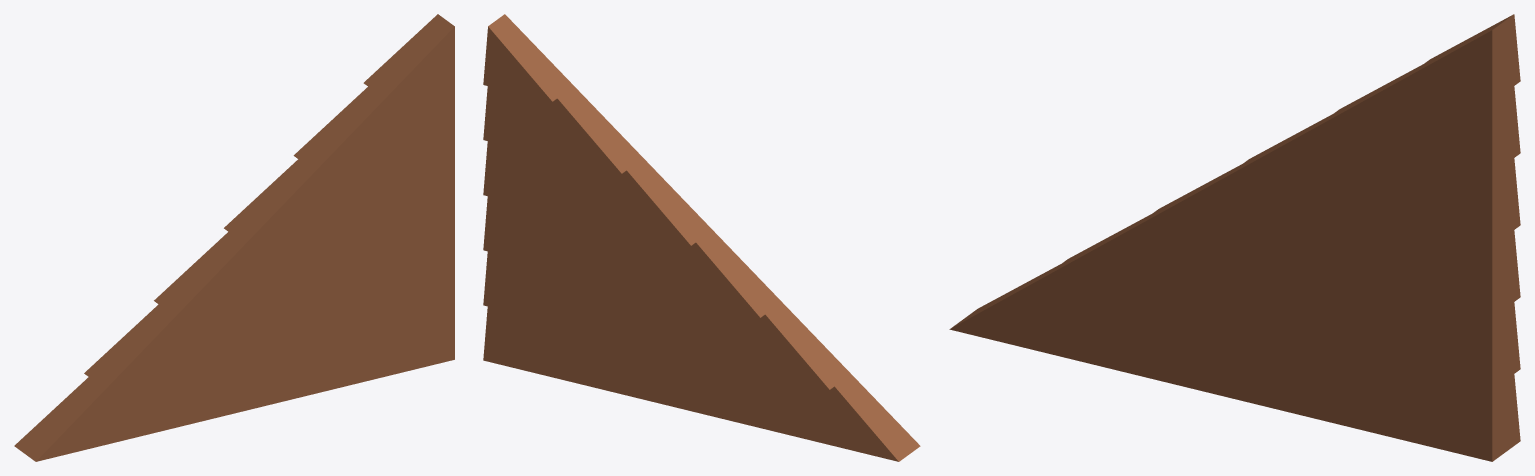
The model's file is cabinSide.fbx.
3 renders of one model, left to right at view 1: azimuth 30°, elevation 25°; view 2: azimuth 150°, elevation 25°; view 3: azimuth 330°, elevation 25°, orthographic. The views are drawn at different scales.
Visible parts, largest first — view 1: cabinSide; view 2: cabinSide; view 3: cabinSide.
Boxes of the visible parts, <box> form: cabinSide: <box>14,14,454,461</box>; cabinSide: <box>483,14,920,461</box>; cabinSide: <box>949,14,1520,461</box>.
Size of the model in its own units: 10 by 7.6 by 0.902.
